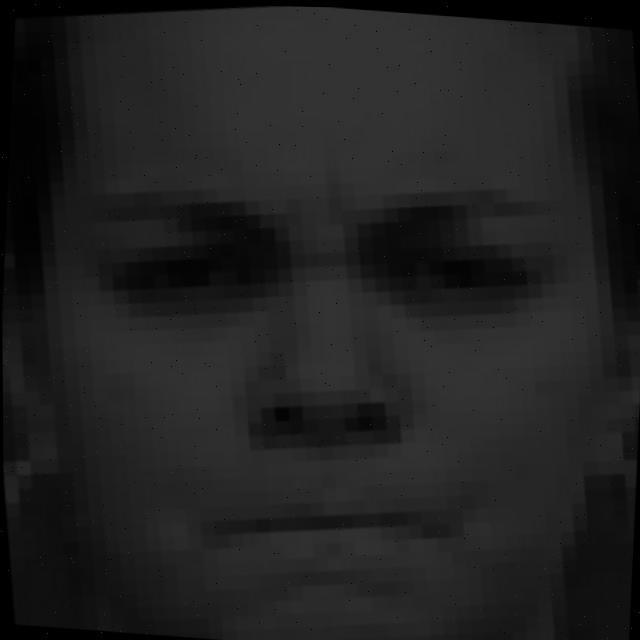Disgust: (70, 107, 577, 616)
